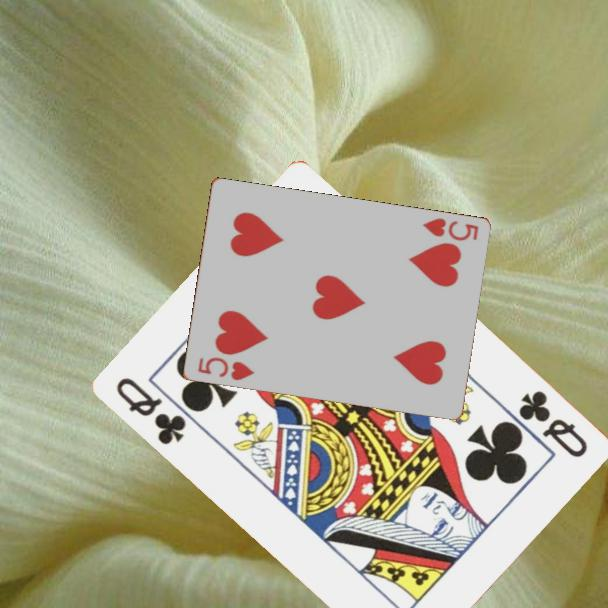c12: (113, 373, 190, 448), (515, 387, 592, 461)
h05: (194, 354, 257, 384), (419, 215, 481, 244)
